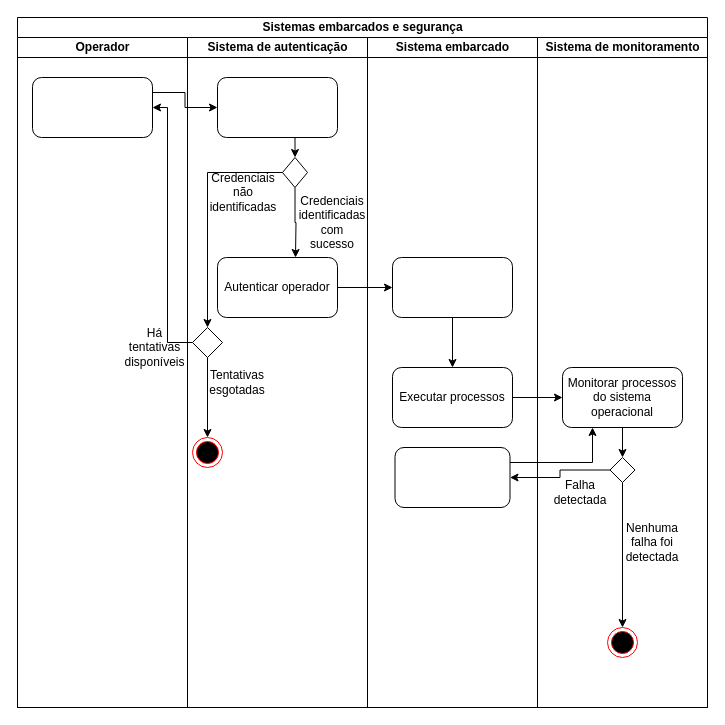
The diagram is 725 pixels wide and 725 high, and some of its shapes have lost their labels. The shapes that lost their labels are listed below. From the top down, each one's centre as x and y in pixels, then its label:
At (x=92, y=107): "Fornecer credenciais".
At (x=277, y=107): "Verificar credenciais".
At (x=452, y=287): "Iniciar operação".
At (x=452, y=477): "Acionar mecanismos de segurança".
